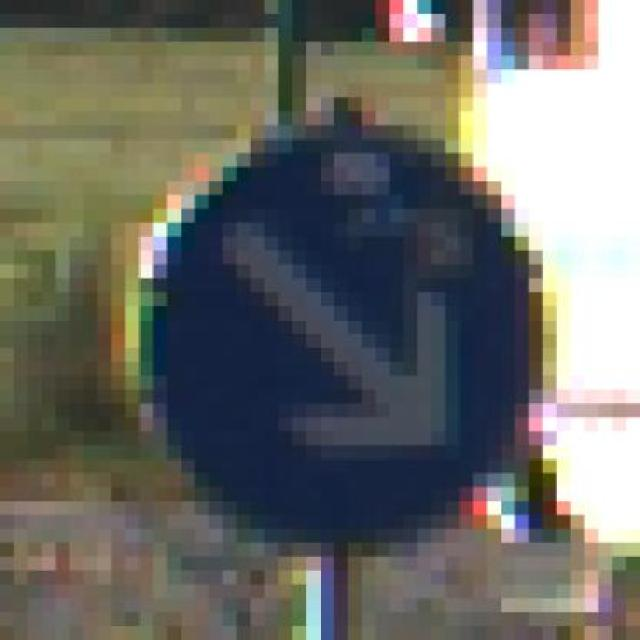Keep-Right: (69, 69, 557, 529)
